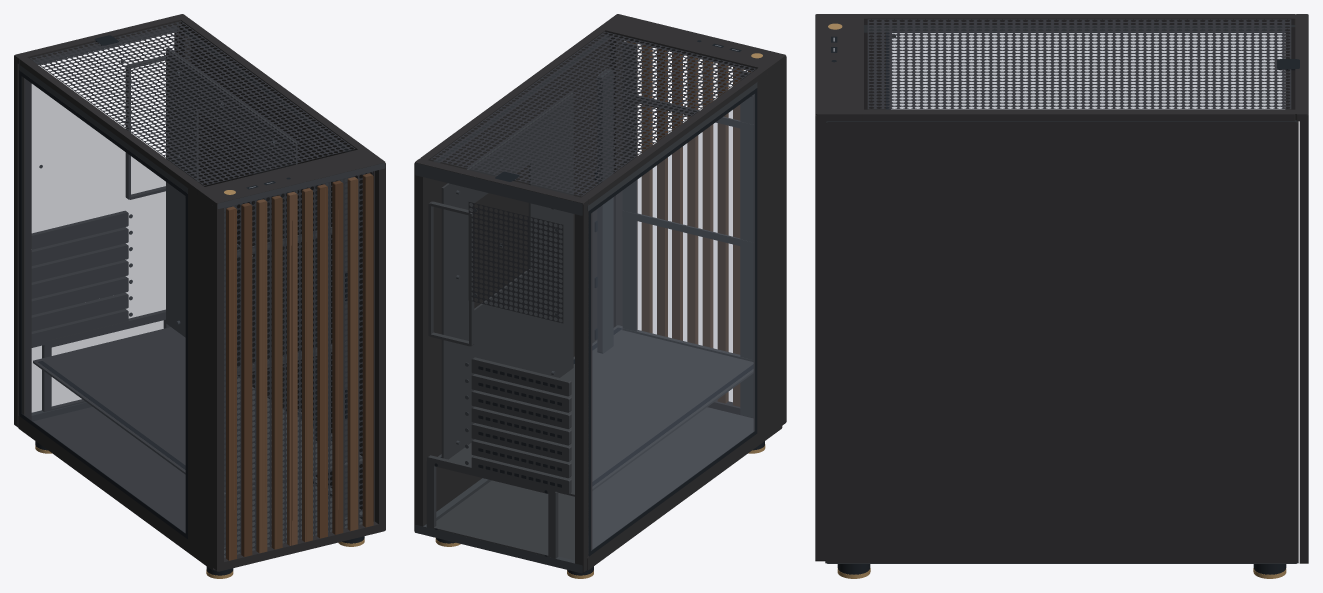
File: fractal-north.glb
3 views of the same model, side by side, from view 1: azimuth 30°, elevation 25°; view 2: azimuth 150°, elevation 25°; view 3: azimuth 270°, elevation 25° (orthographic). The views are drawn at different scales.
Visible parts, largest first — view 1: glass.case-glass, lower-side-and-psu-deck.case-stamped-steel, top-panel.case-mesh, rear-panel.case-stamped-steel, lower-side-and-psu-deck.case-shell-powder-coat, front-panel.case-mesh, front-panel.case-shell-powder-coat, top-panel.case-shell-powder-coat, motherboard-tray.case-stamped-steel, front-panel.north-walnut-2, front-panel.north-walnut-1, front-panel.north-walnut-0 (+13 smaller); view 2: glass.case-glass, lower-side-and-psu-deck.case-stamped-steel, motherboard-tray.case-stamped-steel, top-panel.case-mesh, rear-panel.case-stamped-steel, right-panel.case-shell-powder-coat, lower-side-and-psu-deck.case-shell-powder-coat, top-panel.case-shell-powder-coat, front-fan-carrier.case-stamped-steel, rear-panel.case-shell-powder-coat, rear-panel.case-mesh, front-panel.north-walnut-2 (+13 smaller); view 3: right-panel.case-shell-powder-coat, top-panel.case-mesh, top-panel.case-shell-powder-coat, glass.case-glass, front-panel.case-shell-powder-coat, rear-panel.case-shell-powder-coat, chassis-frame.case-edging, lower-side-and-psu-deck.case-shell-powder-coat, chassis-frame.case-shell-powder-coat, chassis-frame.case-rubber.
Part boxes in pixels (bbox=[...]): glass.case-glass: bbox=[22, 77, 185, 532]; lower-side-and-psu-deck.case-stamped-steel: bbox=[33, 327, 362, 557]; top-panel.case-mesh: bbox=[30, 21, 355, 185]; rear-panel.case-stamped-steel: bbox=[31, 56, 170, 411]; lower-side-and-psu-deck.case-shell-powder-coat: bbox=[18, 188, 213, 570]; front-panel.case-mesh: bbox=[224, 171, 373, 557]; front-panel.case-shell-powder-coat: bbox=[212, 159, 385, 571]; top-panel.case-shell-powder-coat: bbox=[14, 14, 385, 208]; motherboard-tray.case-stamped-steel: bbox=[166, 48, 297, 411]; front-panel.north-walnut-2: bbox=[230, 177, 358, 560]; front-panel.north-walnut-1: bbox=[241, 177, 371, 556]; front-panel.north-walnut-0: bbox=[226, 181, 368, 560]; glass.case-glass: bbox=[591, 94, 754, 550]; lower-side-and-psu-deck.case-stamped-steel: bbox=[436, 325, 753, 560]; motherboard-tray.case-stamped-steel: bbox=[441, 92, 573, 459]; top-panel.case-mesh: bbox=[430, 31, 755, 196]; rear-panel.case-stamped-steel: bbox=[426, 201, 571, 558]; right-panel.case-shell-powder-coat: bbox=[432, 39, 609, 511]; lower-side-and-psu-deck.case-shell-powder-coat: bbox=[587, 64, 782, 570]; top-panel.case-shell-powder-coat: bbox=[415, 14, 785, 208]; front-fan-carrier.case-stamped-steel: bbox=[622, 41, 753, 417]; rear-panel.case-shell-powder-coat: bbox=[414, 160, 587, 573]; rear-panel.case-mesh: bbox=[468, 202, 563, 323]; front-panel.north-walnut-2: bbox=[641, 45, 743, 406]; right-panel.case-shell-powder-coat: bbox=[826, 122, 1297, 563]; top-panel.case-mesh: bbox=[867, 19, 1291, 109]; top-panel.case-shell-powder-coat: bbox=[815, 14, 1308, 121]; glass.case-glass: bbox=[886, 33, 1282, 108]; front-panel.case-shell-powder-coat: bbox=[815, 15, 826, 561]; rear-panel.case-shell-powder-coat: bbox=[1299, 14, 1308, 563]; chassis-frame.case-edging: bbox=[826, 25, 1297, 563]; lower-side-and-psu-deck.case-shell-powder-coat: bbox=[864, 32, 885, 109]; chassis-frame.case-shell-powder-coat: bbox=[825, 27, 1298, 563]; chassis-frame.case-rubber: bbox=[837, 564, 1286, 574].
Bounding box in the file's own units: 0.215 × 0.469 × 0.447.
